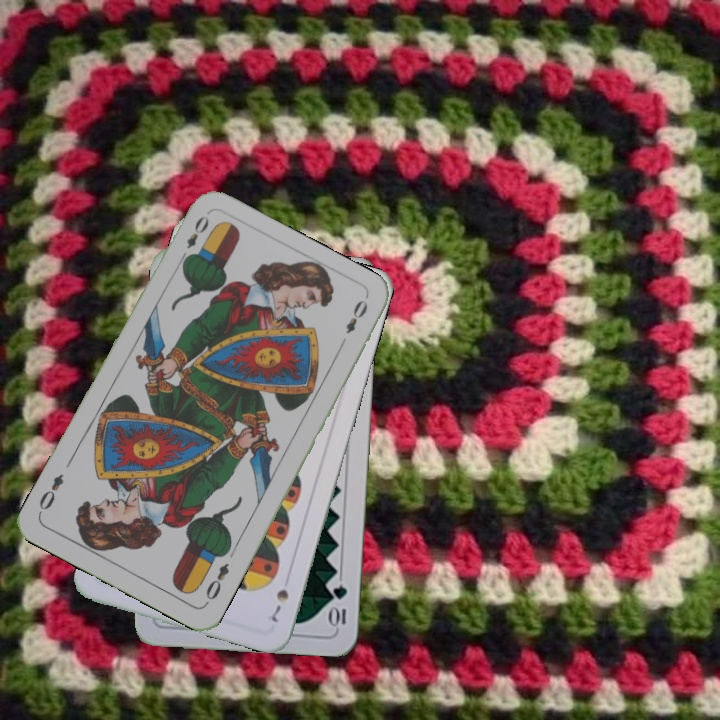EO: (175, 211, 212, 265), (201, 559, 232, 607)
G10: (327, 580, 350, 630)
S7: (267, 585, 291, 625)
